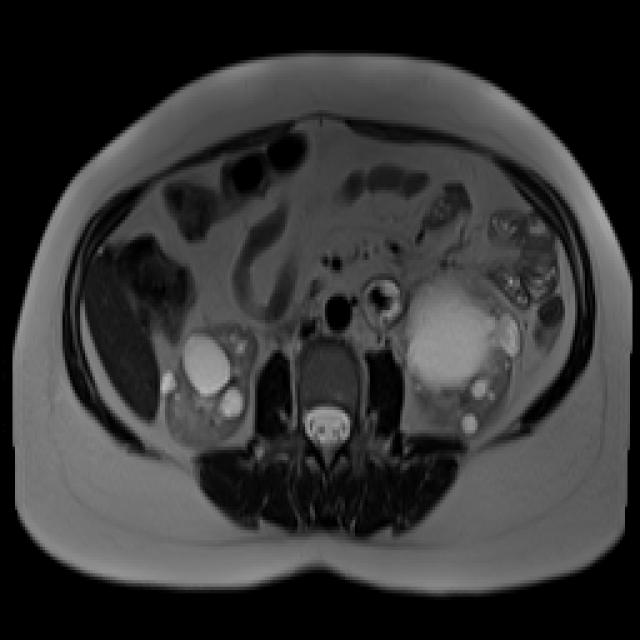sag: (159, 320, 261, 452)
sol: (403, 262, 526, 442)
